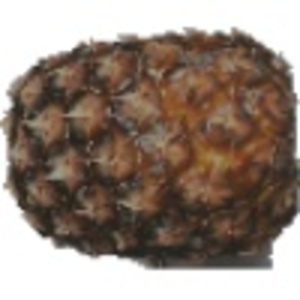abacaxi: (1, 29, 295, 257)
